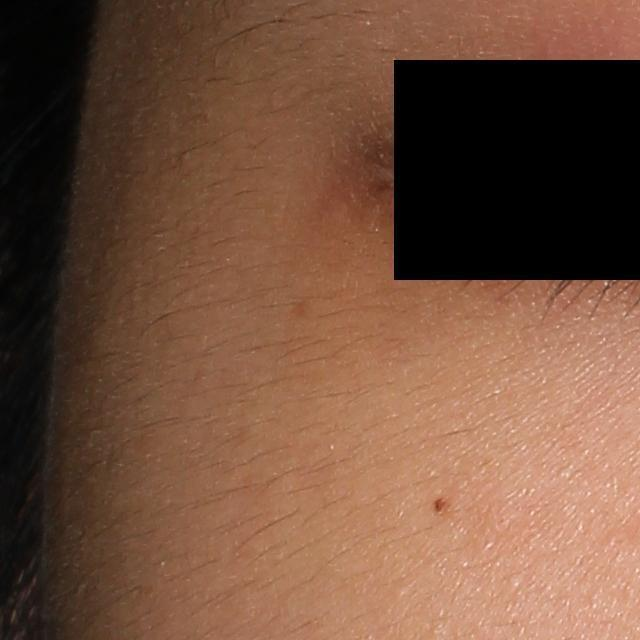nevus: (429, 493, 453, 519)
